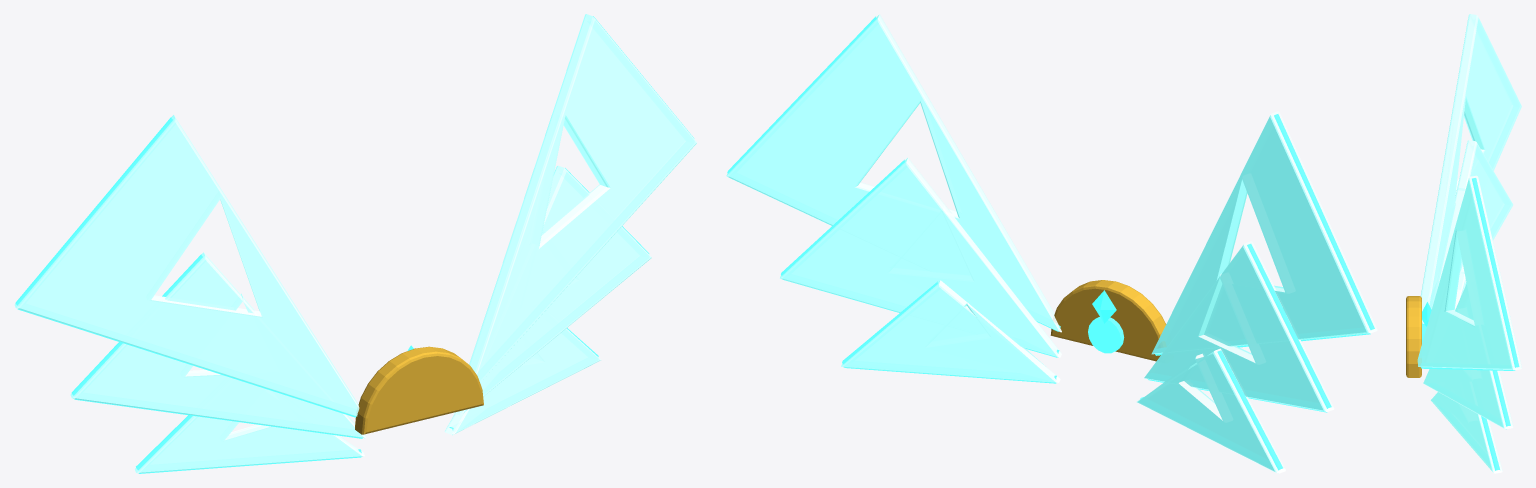
Rendered from back_eqsu4.glb.
The picture shows the model from 3 angles, left to right: view 1: azimuth 30°, elevation 25°; view 2: azimuth 150°, elevation 25°; view 3: azimuth 270°, elevation 25°; orthographic projection. The views are drawn at different scales.
Size of the model in its own units: 4.7 by 2.39 by 0.8685.
